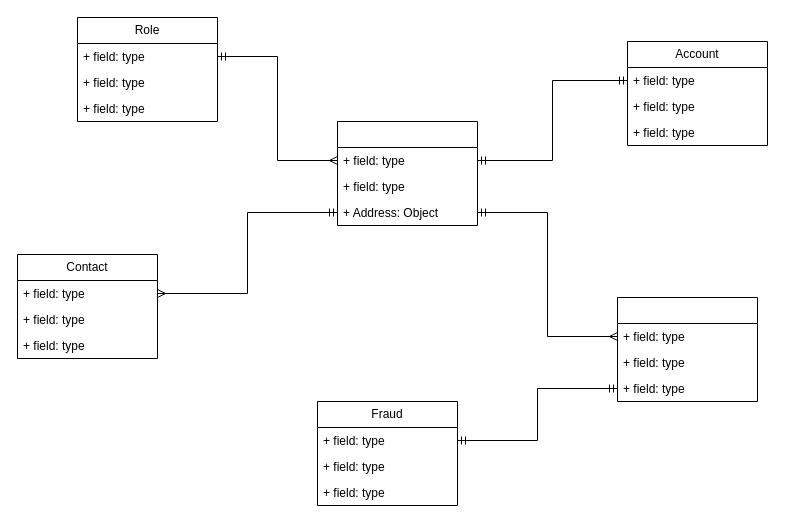
Image size: 785x526. Some labels were removed from this diagram. The shapes that lost their labels are listed below. From the top down, each one's box as (x1, y1, x2, y2) in pixels, then its label:
(336, 120, 478, 226): User
(616, 296, 758, 402): Transaction
